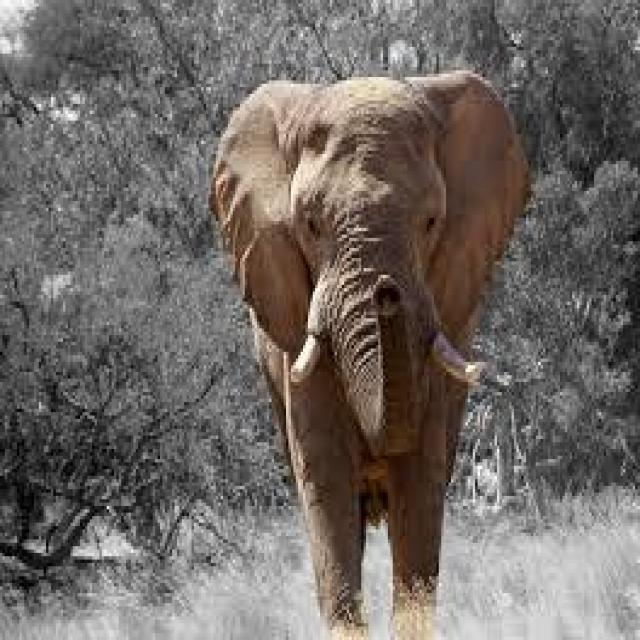Elephant: (199, 60, 528, 627)
